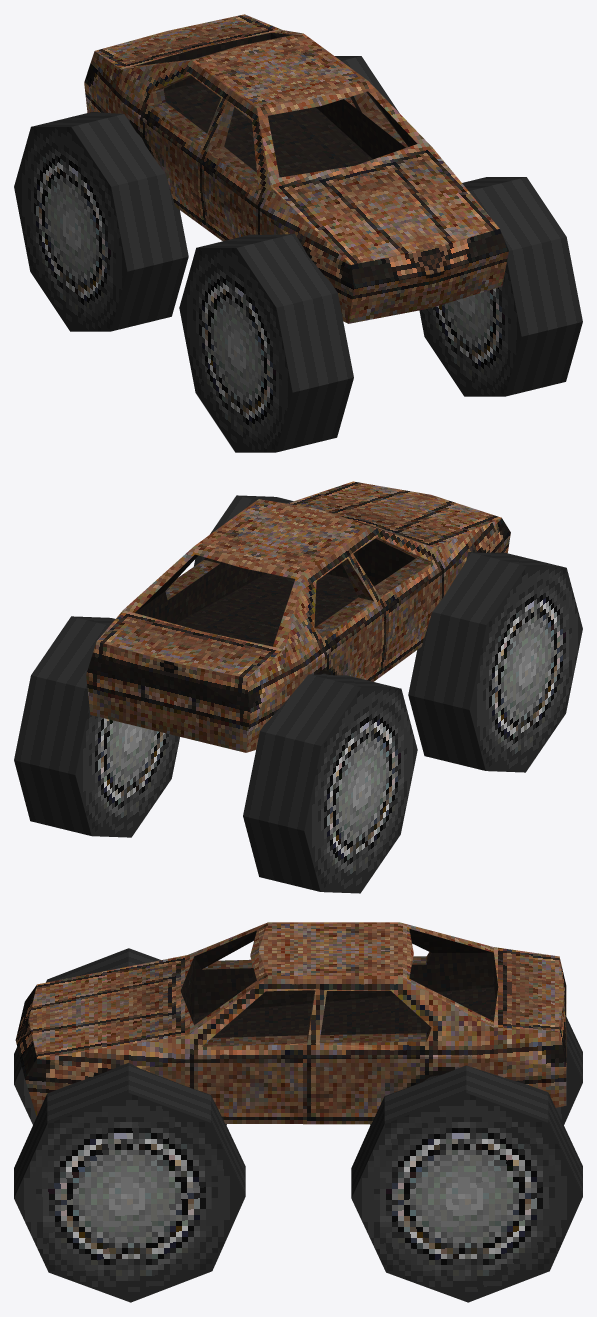
The model's file is Car6.glb.
3 renders of one model, top to bottom at view 1: azimuth 30°, elevation 25°; view 2: azimuth 150°, elevation 25°; view 3: azimuth 270°, elevation 25°, orthographic. The views are drawn at different scales.
Visible parts, largest first — view 1: Car6, Car2.001, Car2.004, Car2.003, Car2.002; view 2: Car6, Car2.004, Car2.001, Car2.002, Car2.003; view 3: Car6, Car2.003, Car2.002, Car2.001, Car2.004.
Part boxes in pixels (left/top/right/bottom): Car6: left=84, top=14, right=508, bottom=323; Car2.001: left=179, top=233, right=353, bottom=452; Car2.004: left=14, top=112, right=188, bottom=331; Car2.003: left=419, top=177, right=582, bottom=396; Car2.002: left=335, top=56, right=398, bottom=112; Car6: left=86, top=481, right=510, bottom=752; Car2.004: left=243, top=673, right=417, bottom=893; Car2.001: left=408, top=552, right=582, bottom=772; Car2.002: left=14, top=616, right=179, bottom=837; Car2.003: left=194, top=495, right=293, bottom=566; Car6: left=15, top=922, right=566, bottom=1124; Car2.003: left=14, top=1063, right=245, bottom=1302; Car2.002: left=351, top=1065, right=582, bottom=1302; Car2.001: left=14, top=948, right=226, bottom=1125; Car2.004: left=370, top=1017, right=582, bottom=1124.
Bounding box in the file's own units: 3.95 × 3.56 × 6.57.
Materials: 2 (2 with a texture image).
